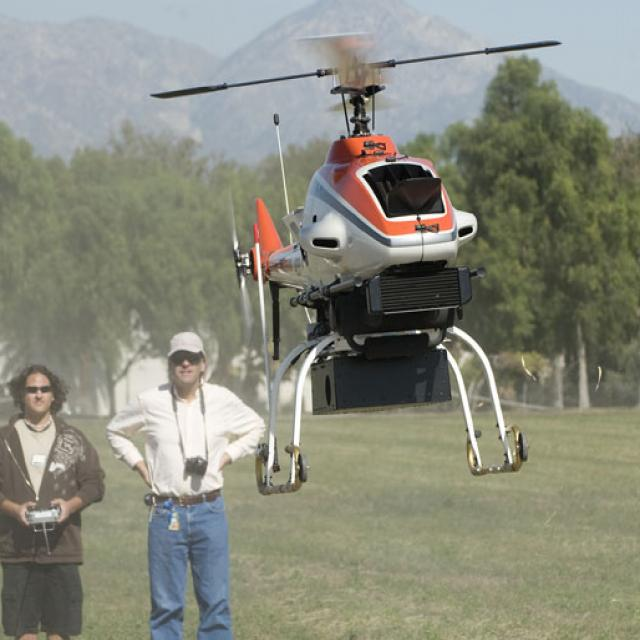helicopter: (132, 25, 604, 482)
